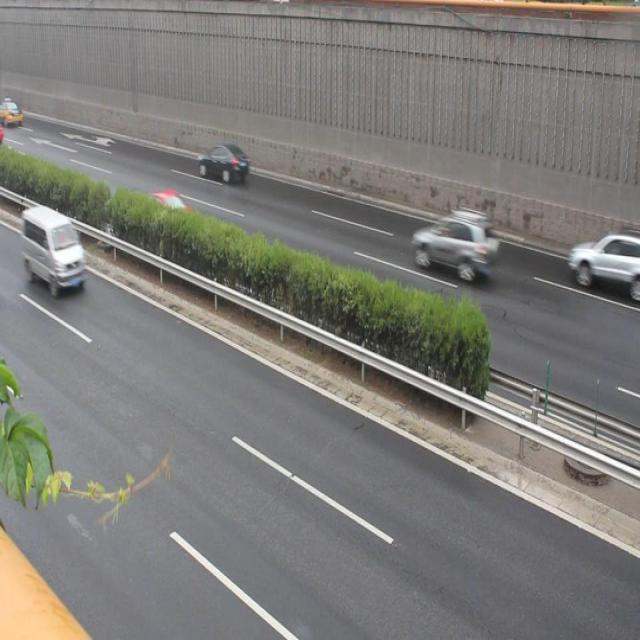car: (411, 209, 502, 283), (569, 226, 640, 299), (127, 190, 198, 247), (198, 142, 249, 184)
truck: (21, 203, 87, 292)
